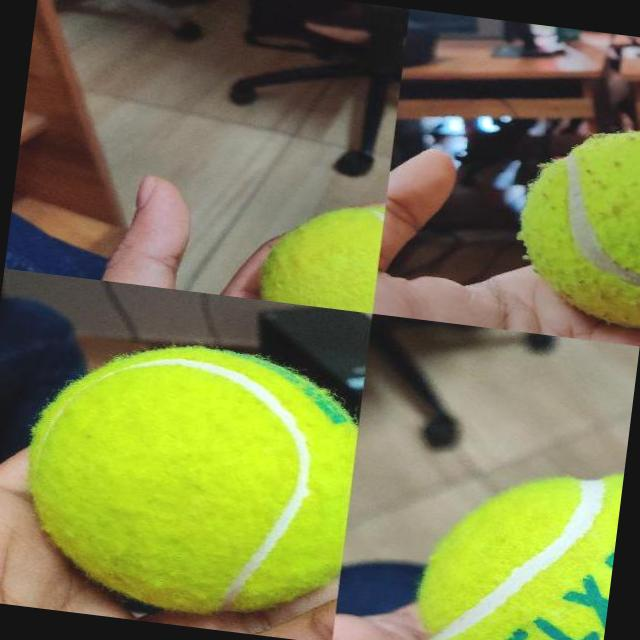Tennis Ball: (11, 328, 364, 631), (411, 455, 622, 640), (507, 116, 640, 329), (258, 192, 384, 312)
